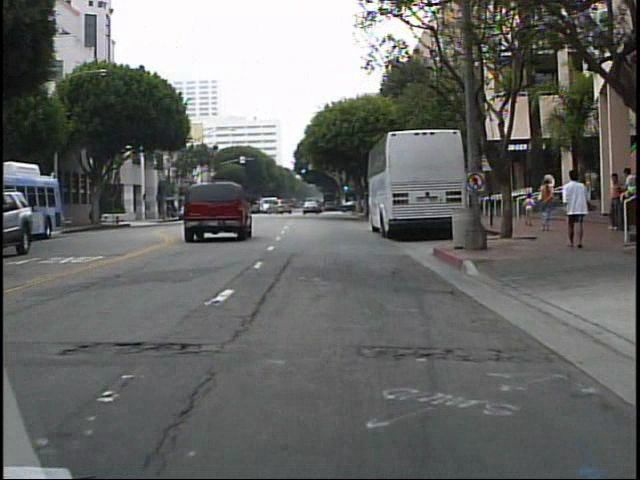person: (561, 169, 594, 250), (537, 176, 556, 237), (619, 166, 637, 229), (604, 170, 621, 235), (522, 192, 537, 229)
